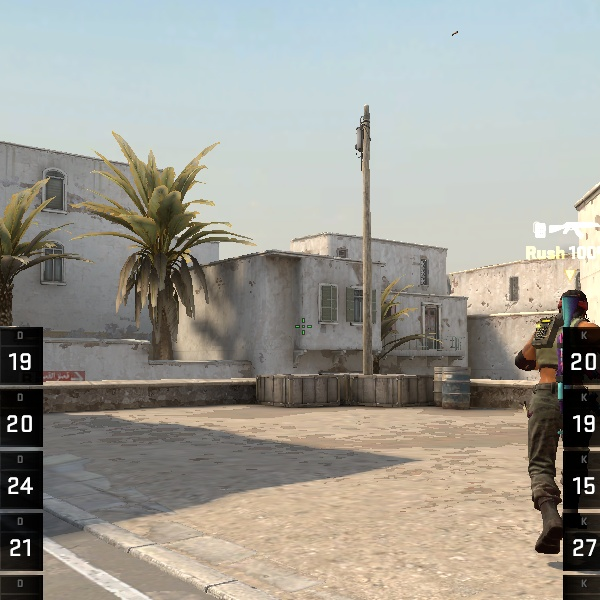t_head: (557, 288, 590, 321)
